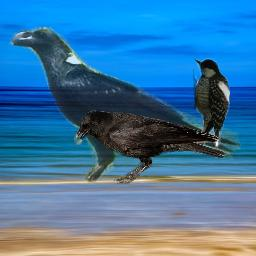Crow: (7, 27, 242, 186), (72, 110, 226, 184)
Woodpecker: (193, 58, 230, 153)
